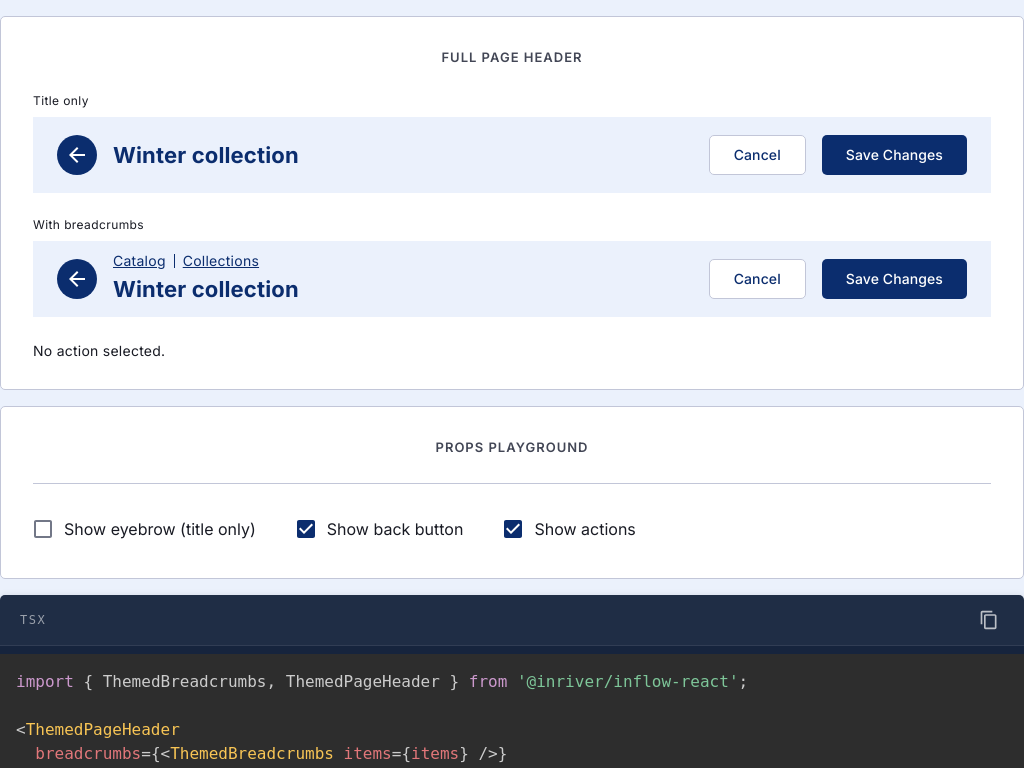
PageHeaderDemo › reports header actions and the back button through the activity line
This screenshot has width=1024, height=768.
Expected: the text "No action selected." is shown, [33,342,165,359]
Click the 1st button "Save changes" at (894, 155), box [822,135,967,175]
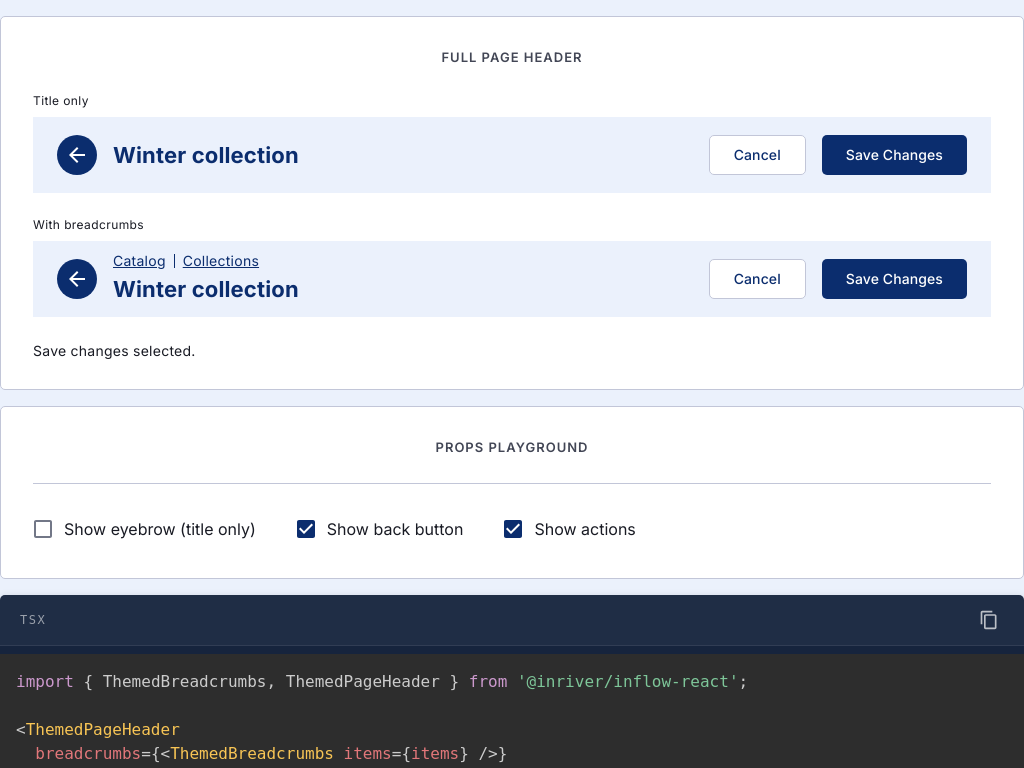
Now the text "Save changes selected." is shown, box [33,342,196,359]
Click the 1st button "Cancel" at (757, 155), box [709,135,806,175]
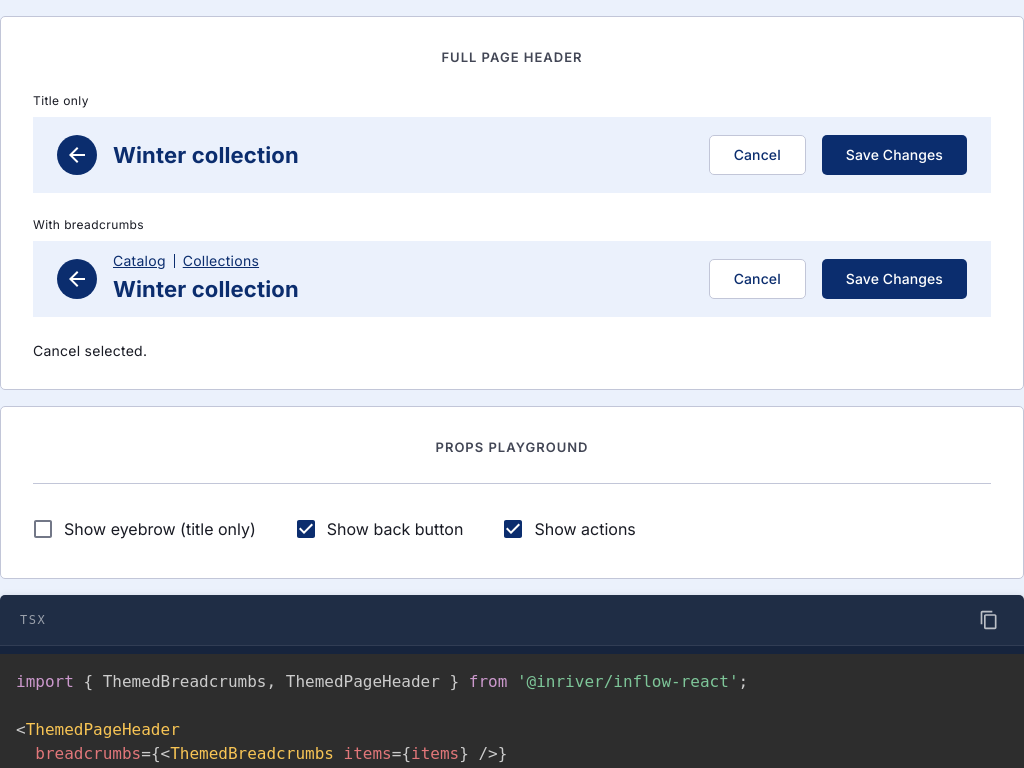
Now the text "Cancel selected." is shown, box [33,342,147,359]
Click the 1st button named "back" at (77, 155), box [57,135,97,175]
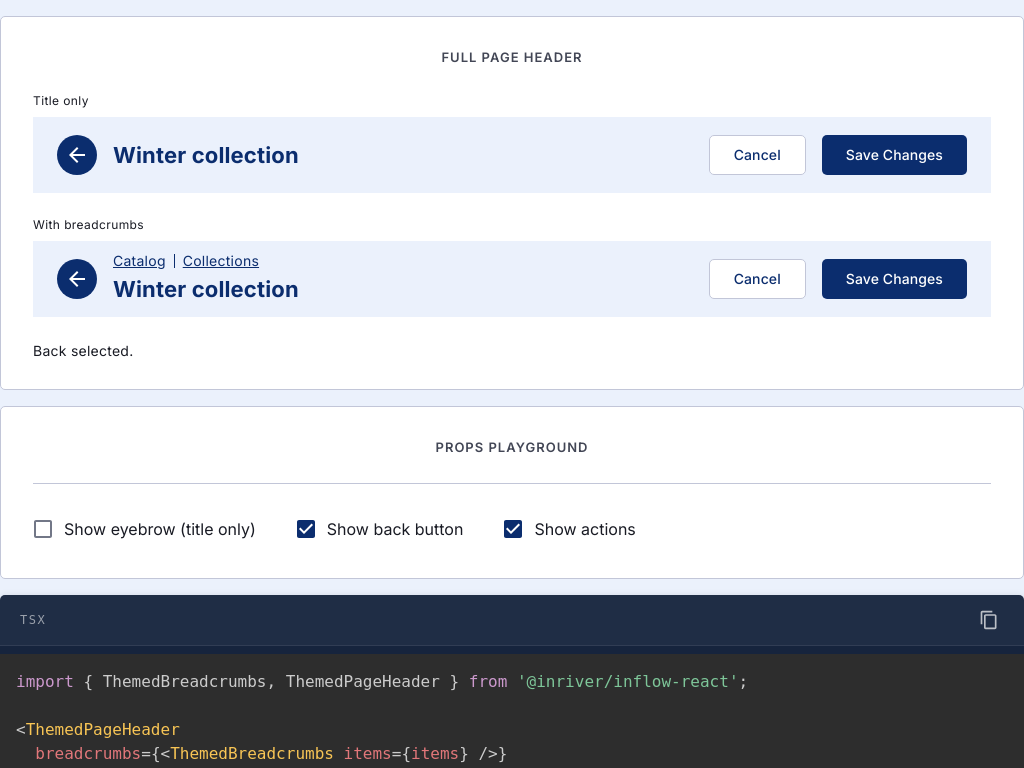
Now the text "Back selected." is shown, box [33,342,134,359]
